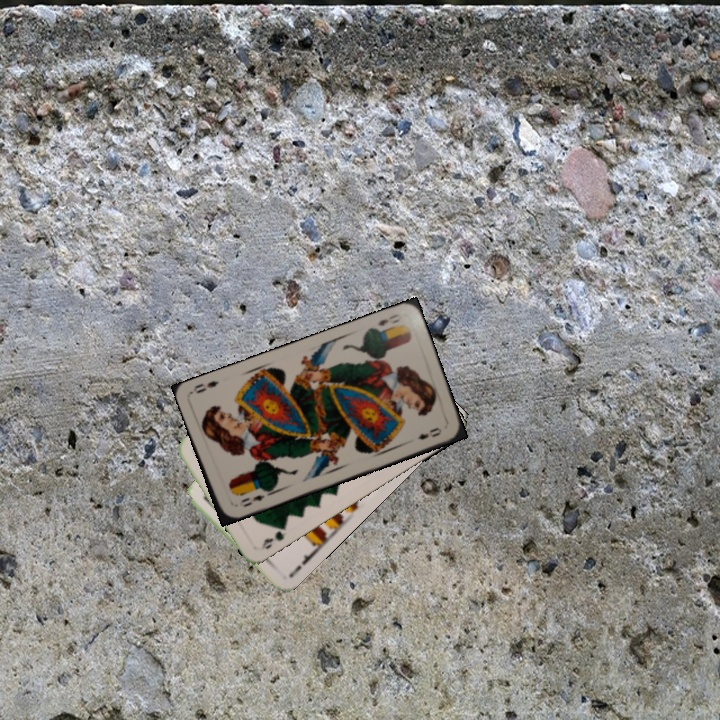E7: (285, 548, 317, 581)
EO: (235, 491, 267, 510), (374, 310, 402, 329)
G9: (256, 520, 290, 553)
